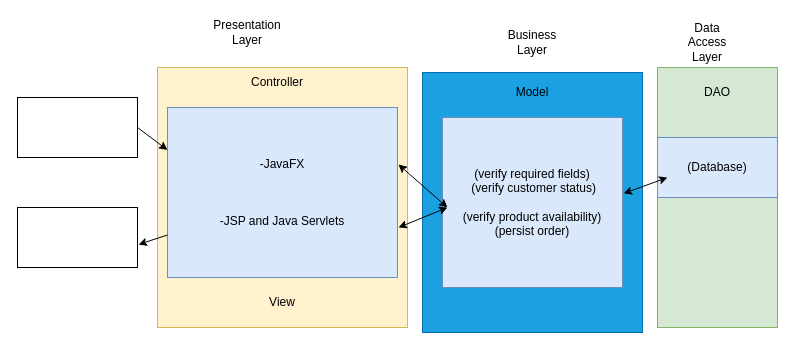
Image size: 795x350. Some labels were removed from this diagram. The box of each missing label's shape, as (x1, y1, x2, y2) in pixels:
request: (16, 96, 138, 158)
response: (16, 206, 138, 268)
